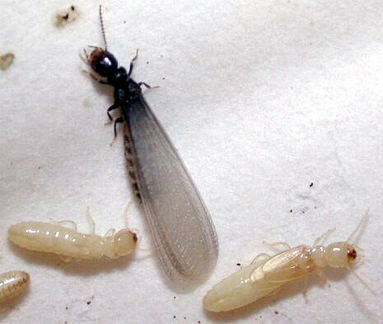flying termite: (64, 4, 223, 291)
